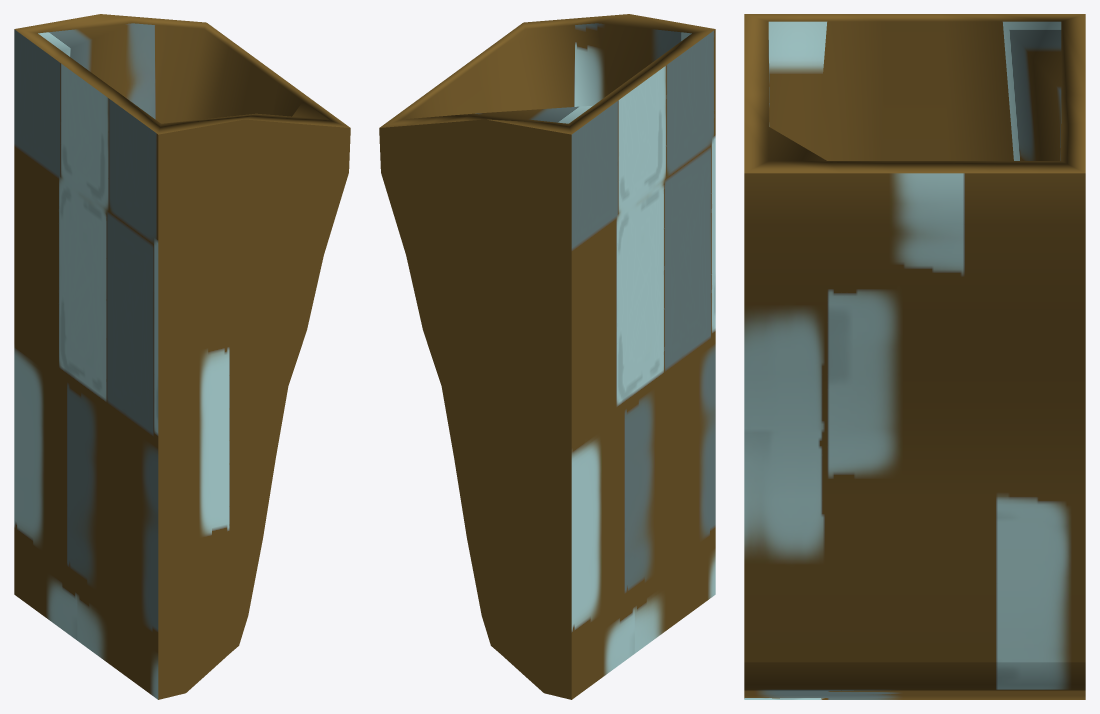
File: keydrop.fbx
The picture shows the model from 3 angles, left to right: view 1: azimuth 30°, elevation 25°; view 2: azimuth 150°, elevation 25°; view 3: azimuth 270°, elevation 25°; orthographic projection. The views are drawn at different scales.
Parts seen in each view (by area): view 1: pCube1; view 2: pCube1; view 3: pCube1.
Part boxes in pixels (box(x1,y1,x2,y2)): pCube1: box(14, 14, 350, 699); pCube1: box(379, 14, 715, 699); pCube1: box(744, 14, 1085, 699).
Size of the model in its own units: 1.6 by 4.5 by 2.08.
